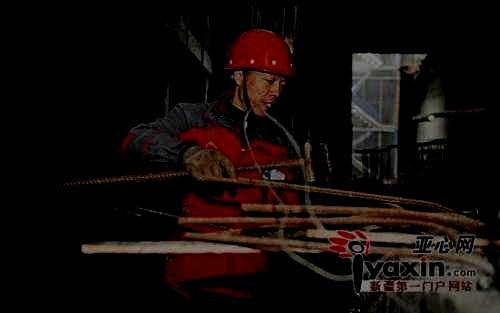helmet: (223, 29, 294, 119)
